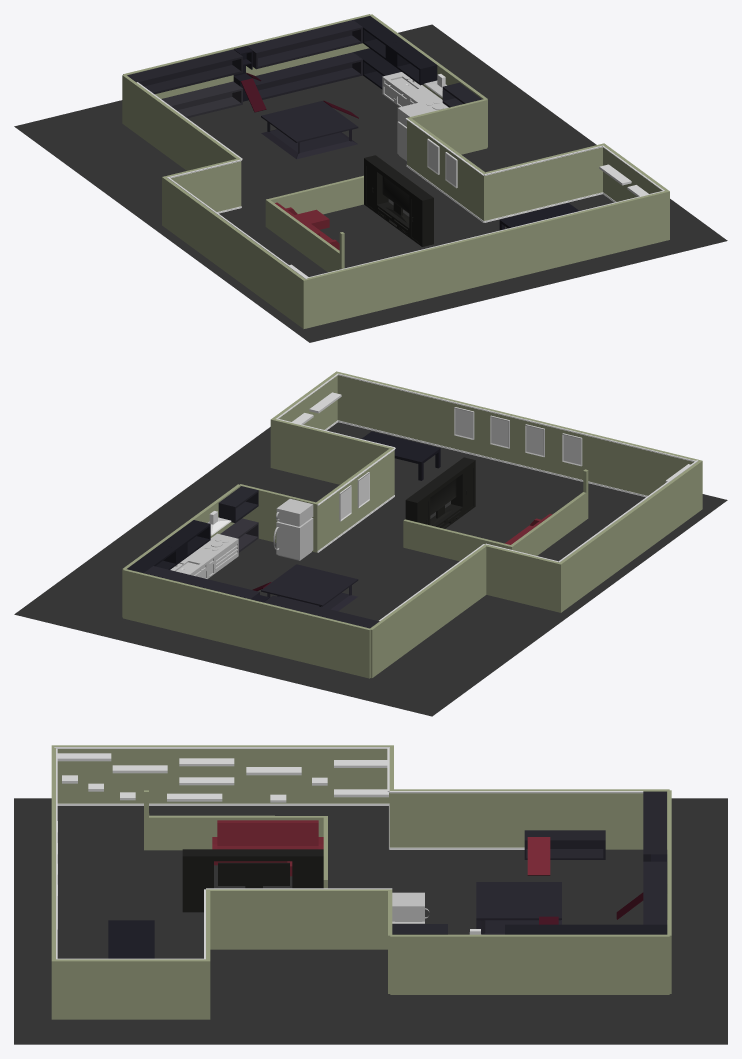
Rendered from prototype-level.fbx.
The picture shows the model from 3 angles, top to bottom: view 1: azimuth 30°, elevation 25°; view 2: azimuth 150°, elevation 25°; view 3: azimuth 270°, elevation 25°; orthographic projection. The views are drawn at different scales.
Parts seen in each view (by area): view 1: Plane, Cube.025, Cube.024, Cube.028, Cube.005, TV, Cube.012, Cube, Cube.016, Cube.008, Cube.003, Cube.015 (+15 smaller); view 2: Plane, Cube.025, Cube.002, Cube.024, Cube.005, Cube.028, Cube.023, Cube, TV, Cube.012, Cube.001, Cube.022 (+18 smaller); view 3: Plane, Cube.004, Cube.024, Cube.005, Cube, Cube.029, TV, Cube.012, Cube.026, Cube.022, Cube.011, Cube.027 (+19 smaller).
Part boxes in pixels (bbox=[...]): Plane: bbox=[14, 24, 727, 342]; Cube.025: bbox=[303, 190, 669, 328]; Cube.024: bbox=[162, 176, 306, 328]; Cube.028: bbox=[482, 144, 602, 220]; Cube.005: bbox=[122, 74, 240, 170]; TV: bbox=[364, 155, 433, 246]; Cube.012: bbox=[261, 101, 358, 159]; Cube: bbox=[407, 117, 484, 219]; Cube.016: bbox=[246, 20, 362, 69]; Cube.008: bbox=[253, 52, 362, 99]; Cube.003: bbox=[408, 99, 487, 154]; Cube.015: bbox=[127, 49, 242, 94]; Plane: bbox=[14, 422, 727, 716]; Cube.025: bbox=[336, 372, 698, 495]; Cube.002: bbox=[123, 569, 370, 678]; Cube.024: bbox=[558, 460, 702, 611]; Cube.005: bbox=[369, 545, 487, 678]; Cube.028: bbox=[273, 419, 394, 495]; Cube.023: bbox=[484, 544, 562, 612]; Cube: bbox=[314, 448, 393, 552]; TV: bbox=[405, 457, 475, 528]; Cube.012: bbox=[261, 564, 358, 611]; Cube.001: bbox=[403, 519, 513, 561]; Cube.022: bbox=[509, 469, 588, 555]; Plane: bbox=[14, 798, 727, 1044]; Cube.004: bbox=[390, 934, 669, 994]; Cube.024: bbox=[51, 745, 393, 803]; Cube.005: bbox=[389, 789, 669, 849]; Cube: bbox=[209, 889, 392, 949]; Cube.029: bbox=[51, 959, 210, 1019]; TV: bbox=[182, 849, 323, 912]; Cube.012: bbox=[476, 882, 561, 934]; Cube.026: bbox=[212, 820, 323, 876]; Cube.022: bbox=[144, 790, 327, 850]; Cube.011: bbox=[524, 830, 605, 859]; Cube.027: bbox=[108, 920, 154, 958].
Bounding box in the file's own units: 2712 × 303 × 3322.
